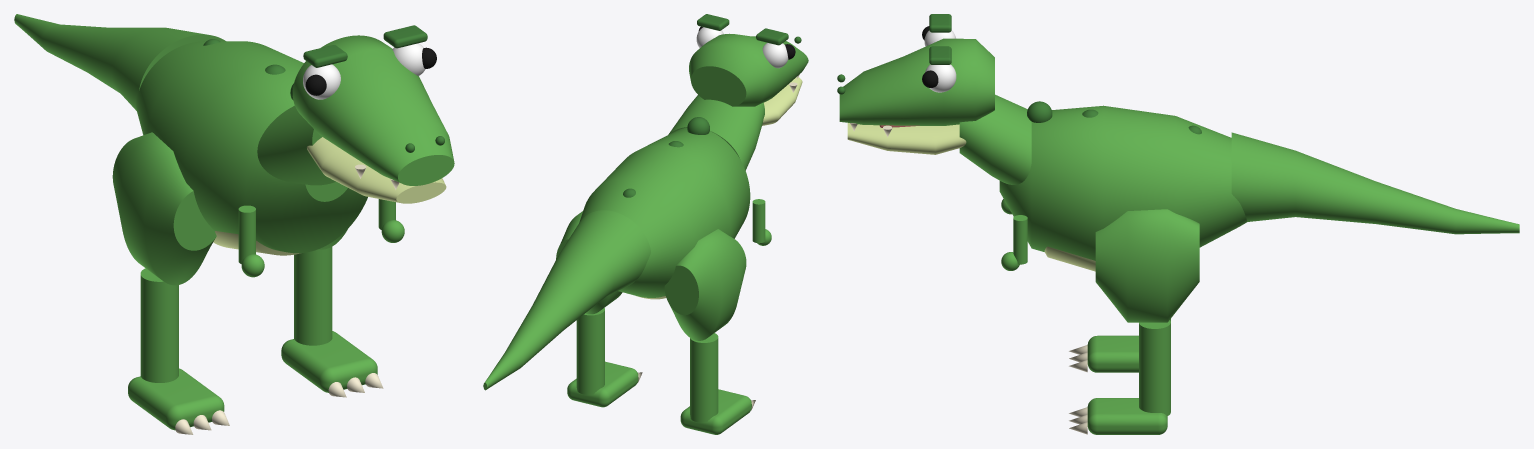
The model's file is trex.glb.
The picture shows the model from 3 angles, left to right: view 1: azimuth 30°, elevation 25°; view 2: azimuth 150°, elevation 25°; view 3: azimuth 270°, elevation 25°; orthographic projection. The views are drawn at different scales.
Parts seen in each view (by area): view 1: Torso, Skull, Thigh_L, Tail, Shin_L, Shin_R, Neck, Foot_R, Foot_L, Jaw, Arm_L, Eye_L (+7 smaller); view 2: Torso, Tail, Thigh_L, Skull, Neck, Shin_L, Shin_R, Foot_L, Foot_R, Jaw, Thigh_R, Arm_L (+5 smaller); view 3: Torso, Tail, Thigh_R, Skull, Neck, Shin_R, Jaw, Foot_R, Foot_L, Arm_R.
Boxes of the visible parts, x1=… form: Torso: x1=135, y1=41, x2=367, y2=253; Skull: x1=292, y1=35, x2=454, y2=185; Thigh_L: x1=112, y1=132, x2=216, y2=285; Tail: x1=14, y1=14, x2=225, y2=110; Shin_L: x1=140, y1=268, x2=178, y2=382; Shin_R: x1=294, y1=247, x2=332, y2=345; Neck: x1=257, y1=105, x2=335, y2=185; Foot_R: x1=281, y1=331, x2=377, y2=392; Foot_L: x1=128, y1=368, x2=224, y2=430; Jaw: x1=307, y1=137, x2=446, y2=203; Arm_L: x1=238, y1=205, x2=255, y2=263; Eye_L: x1=303, y1=64, x2=340, y2=99; Torso: x1=579, y1=127, x2=750, y2=297; Tail: x1=483, y1=210, x2=650, y2=390; Thigh_L: x1=664, y1=229, x2=746, y2=340; Skull: x1=689, y1=33, x2=808, y2=106; Neck: x1=668, y1=95, x2=764, y2=170; Shin_L: x1=690, y1=333, x2=718, y2=422; Shin_R: x1=576, y1=308, x2=604, y2=395; Foot_L: x1=680, y1=389, x2=751, y2=434; Foot_R: x1=567, y1=361, x2=638, y2=407; Jaw: x1=762, y1=77, x2=802, y2=125; Thigh_R: x1=556, y1=211, x2=622, y2=314; Arm_L: x1=752, y1=199, x2=765, y2=243; Torso: x1=999, y1=105, x2=1247, y2=260; Tail: x1=1231, y1=132, x2=1519, y2=234; Thigh_R: x1=1095, y1=209, x2=1199, y2=322; Skull: x1=839, y1=38, x2=994, y2=125; Neck: x1=959, y1=94, x2=1031, y2=184; Shin_R: x1=1139, y1=320, x2=1170, y2=416; Jaw: x1=847, y1=123, x2=966, y2=154; Foot_R: x1=1087, y1=398, x2=1167, y2=434; Foot_L: x1=1087, y1=335, x2=1138, y2=372; Arm_R: x1=1013, y1=215, x2=1027, y2=264.
Bounding box in the file's own units: 1.3 × 2.48 × 4.26.
